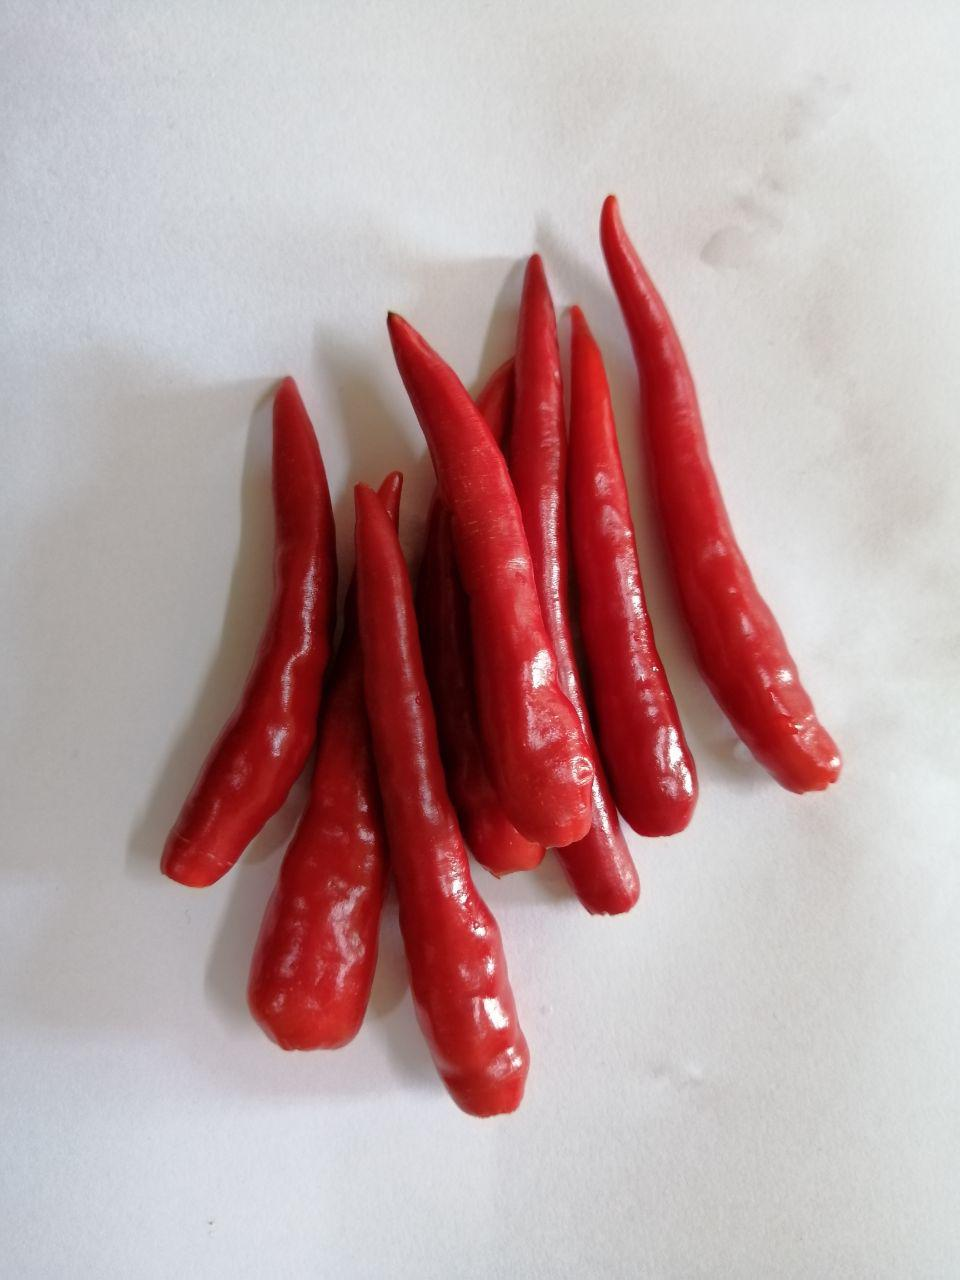lada merah: (581, 163, 877, 817), (312, 451, 573, 1151), (135, 335, 375, 917), (363, 290, 598, 868), (481, 247, 671, 929), (535, 292, 737, 866), (228, 588, 418, 1086)
